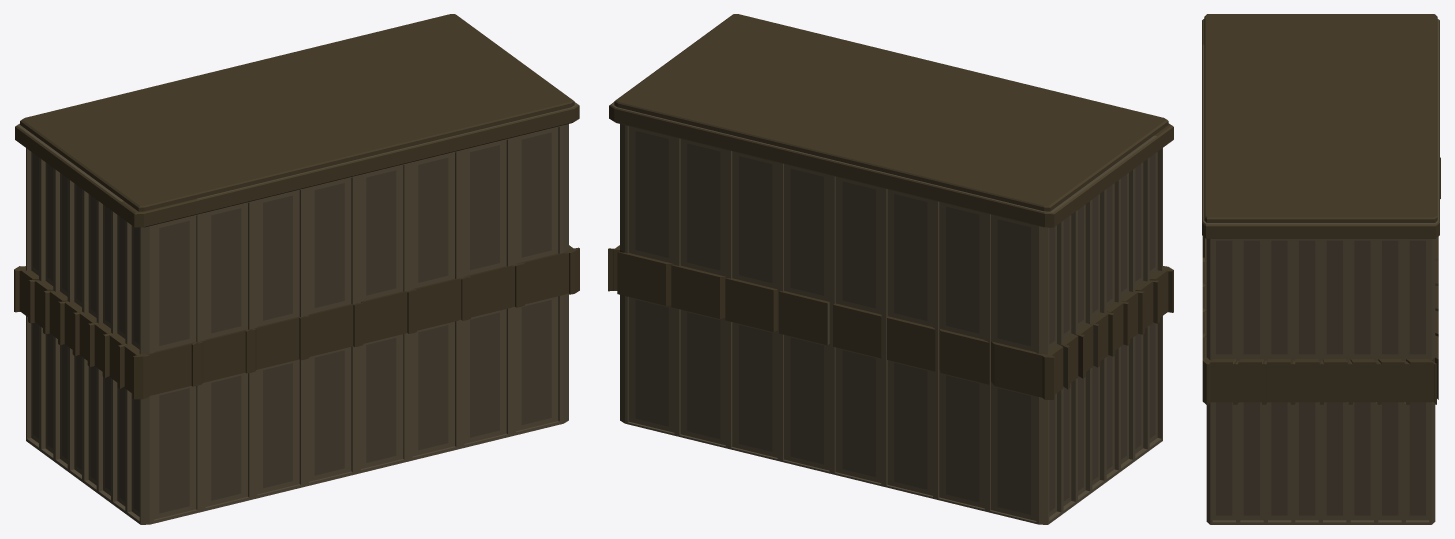
The picture shows the model from 3 angles, left to right: view 1: azimuth 30°, elevation 25°; view 2: azimuth 150°, elevation 25°; view 3: azimuth 270°, elevation 25°; orthographic projection. The views are drawn at different scales.
Visible parts, largest first — view 1: ลูกบาศก์.165; view 2: ลูกบาศก์.165; view 3: ลูกบาศก์.165.
Boxes of the visible parts, x1,y1,x2,y2 form: ลูกบาศก์.165: (14, 14, 579, 524); ลูกบาศก์.165: (608, 14, 1173, 524); ลูกบาศก์.165: (1202, 14, 1440, 524).
Size of the model in its own units: 975 by 670 by 470.
